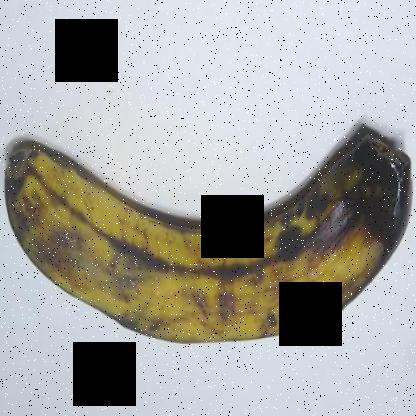overripe: (1, 120, 415, 362)
rotten: (315, 127, 415, 258)
